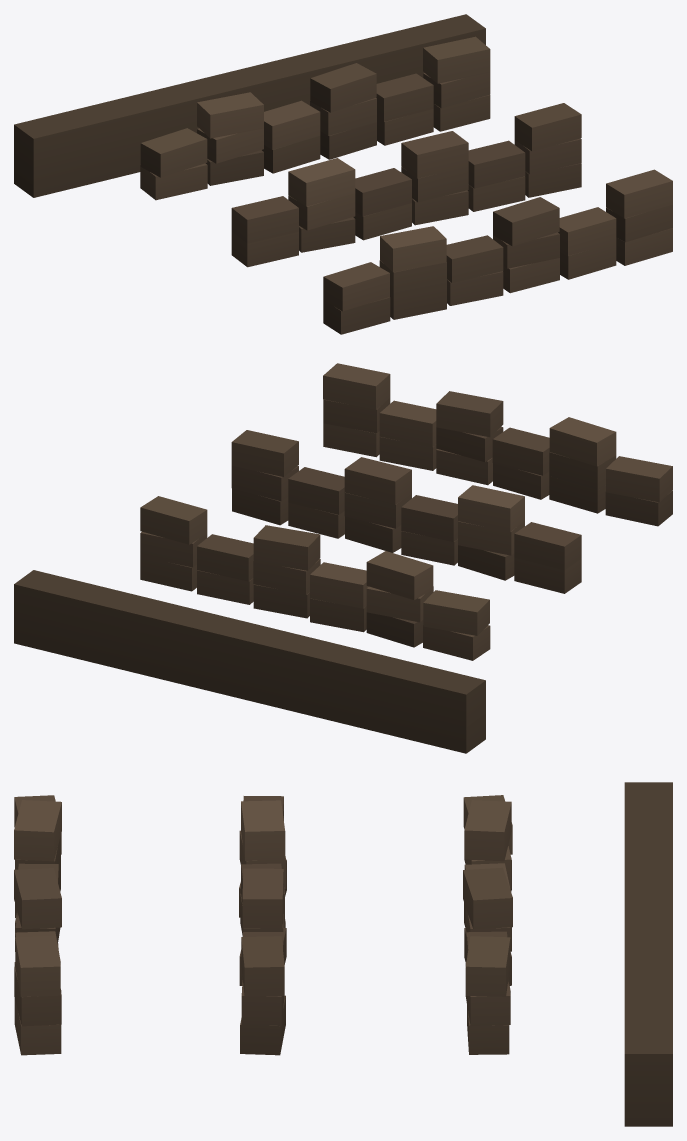
Rendered from peat_stack.glb.
3 views of the same model, one above another, from view 1: azimuth 30°, elevation 25°; view 2: azimuth 150°, elevation 25°; view 3: azimuth 270°, elevation 25° (orthographic). The views are drawn at different scales.
Visible parts, largest first — view 1: peat_stack; view 2: peat_stack; view 3: peat_stack.
Boxes of the visible parts, <box> form: peat_stack: <box>14,14,672,334</box>; peat_stack: <box>14,363,672,753</box>; peat_stack: <box>14,782,672,1126</box>.
Bounding box in the file's own units: 4 × 0.85 × 4.1.
